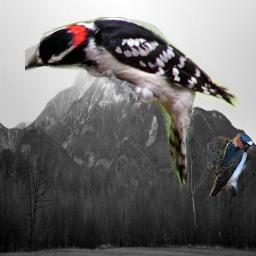Swallow: (207, 133, 253, 196)
Woodpecker: (25, 15, 242, 192)
